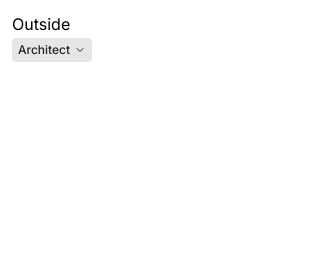
Test: ArchetypeSelector › closes dropdown on click outside
The width and height of the screenshot is (332, 279).
Step 1. Click the button with test id "archetype-selector" → click(52, 50), box [12, 38, 92, 62]
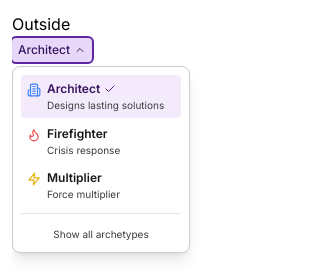
Now the list is shown, box [12, 66, 190, 252]
Step 2. Click the text with test id "outside" → click(41, 24), box [12, 14, 70, 34]
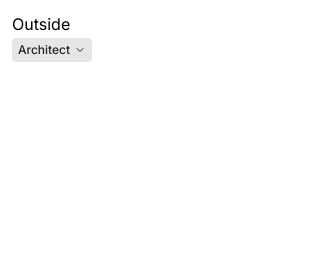
Now the list is gone
